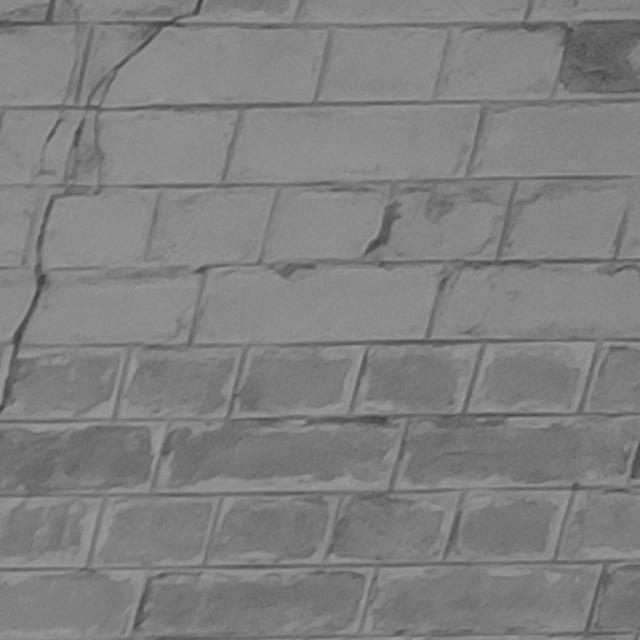crack: (1, 1, 202, 412)
